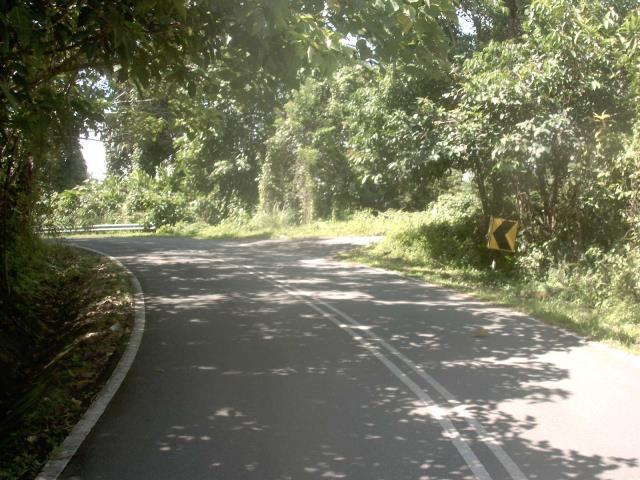traffic_sign: (481, 211, 527, 261)
